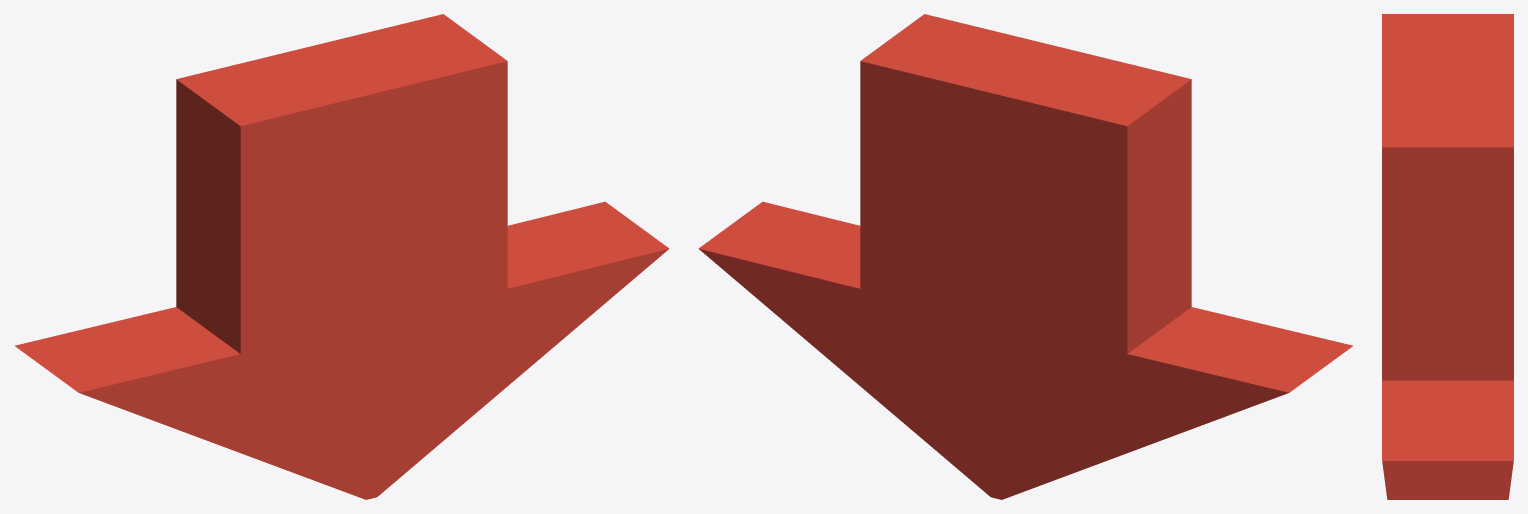
The model's file is arrow-endpoint.fbx.
3 renders of one model, left to right at view 1: azimuth 30°, elevation 25°; view 2: azimuth 150°, elevation 25°; view 3: azimuth 270°, elevation 25°, orthographic. The views are drawn at different scales.
Parts seen in each view (by area): view 1: Cube.001; view 2: Cube.001; view 3: Cube.001.
Part boxes in pixels (box(x1,y1,x2,y2)): Cube.001: box(14, 14, 669, 499); Cube.001: box(698, 14, 1353, 499); Cube.001: box(1382, 14, 1513, 499).
Bounding box in the file's own units: 123 × 80.81 × 23.16.
